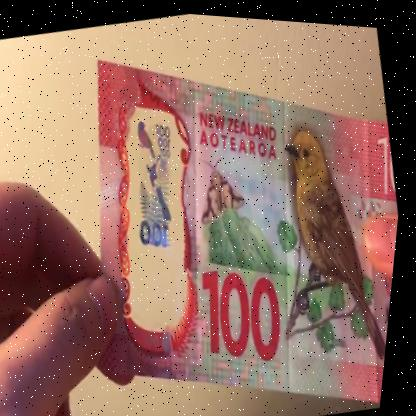100B: (114, 106, 206, 277)
